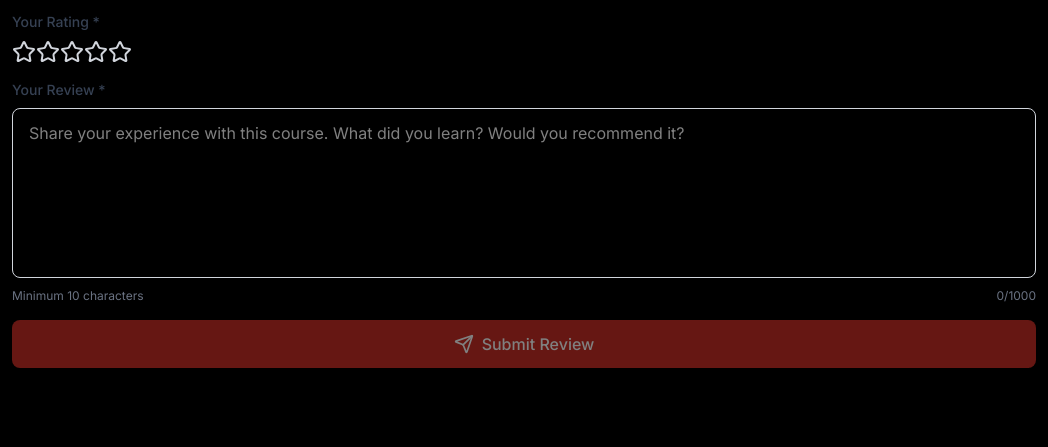
it: ReviewForm › shows validation error when no rating selected
Step 1. Replace the text in the text box labelled "Your Review *" with "This is a long enough review comment" → {"x": 524, "y": 193}, box [12,108,1036,278]
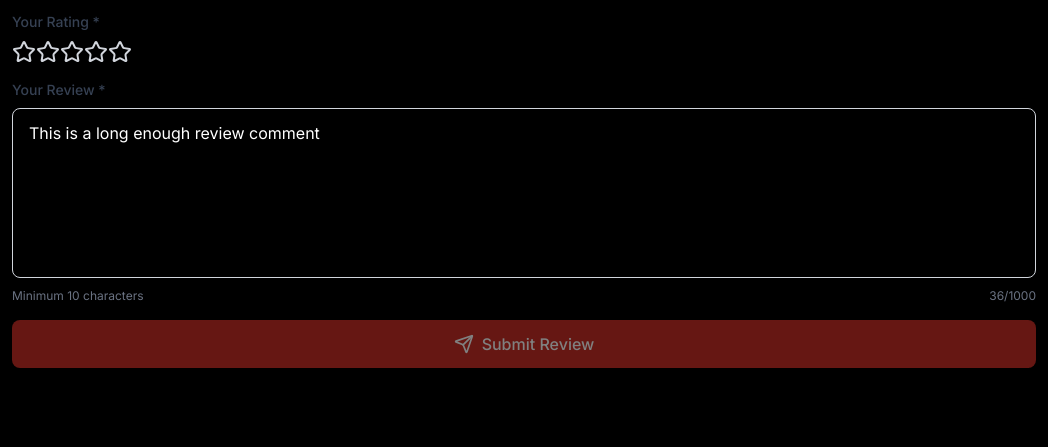
Step 2. Submit the form "Submit Review"
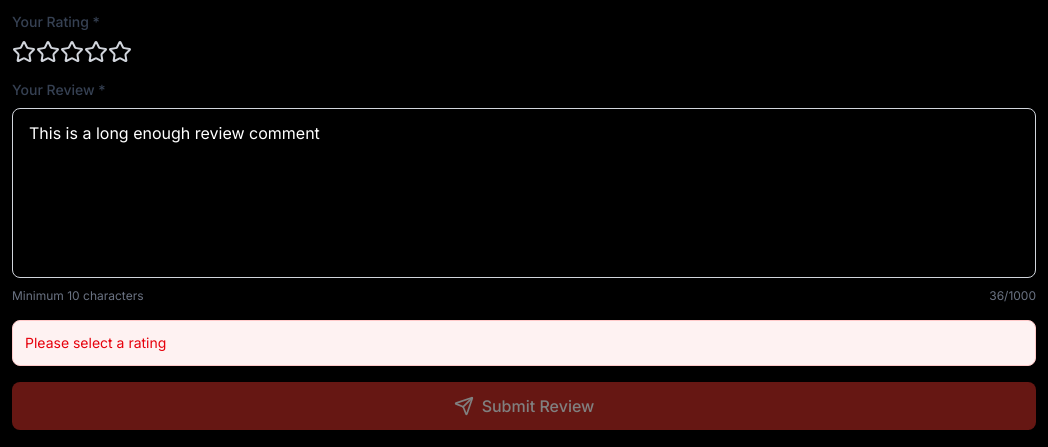
Check: the text "Please select a rating" is shown, box [12,320,1036,366]
